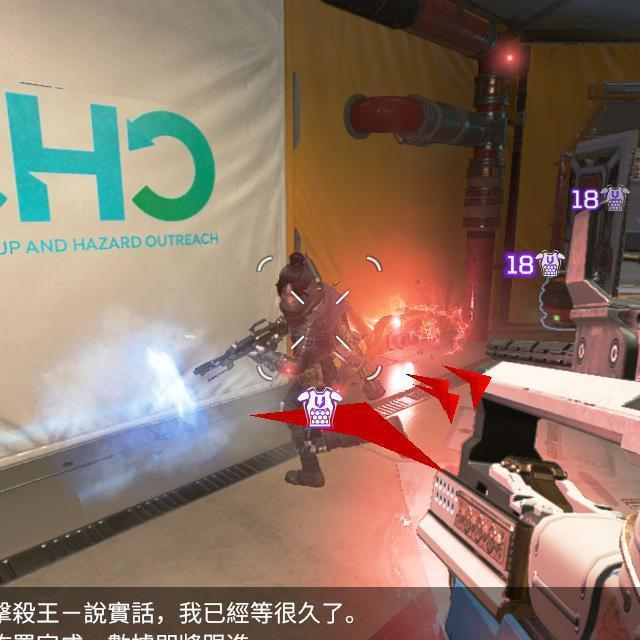avatar: (260, 251, 387, 488)
